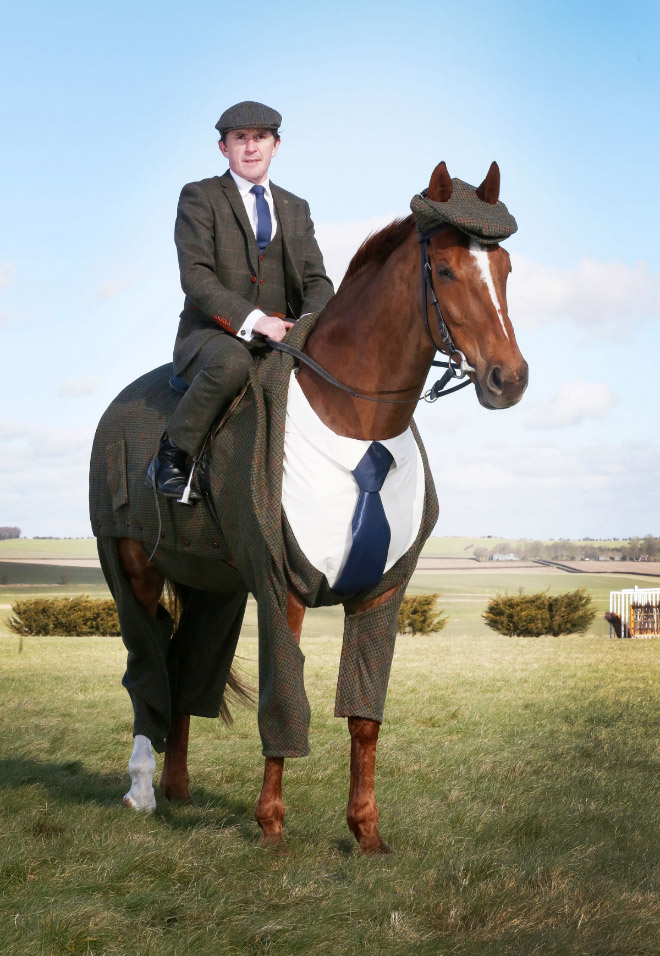Horse: (92, 174, 533, 882)
Person: (142, 77, 342, 490)
